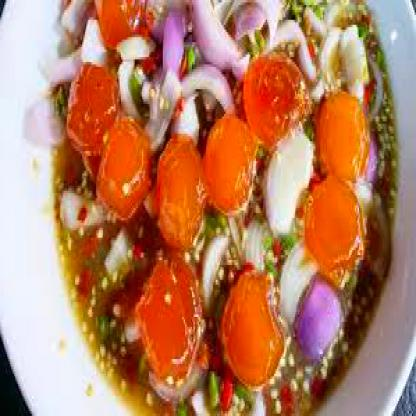Yum: (36, 5, 395, 413)
